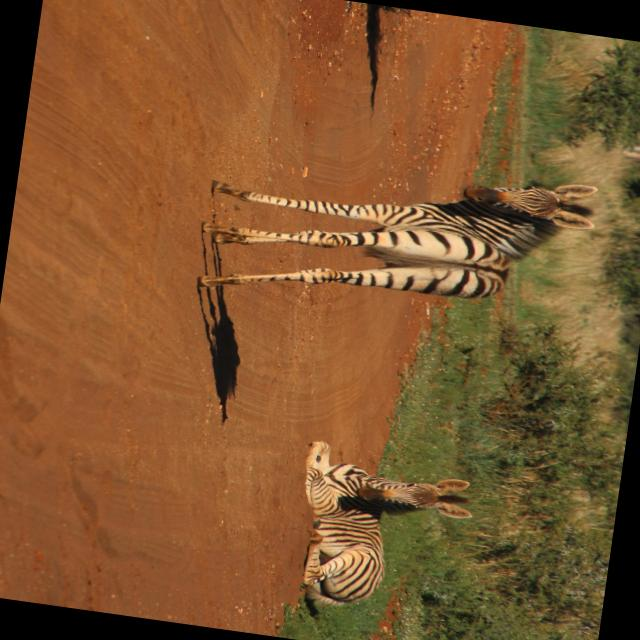Zebra: (192, 132, 602, 343), (286, 439, 480, 623)
